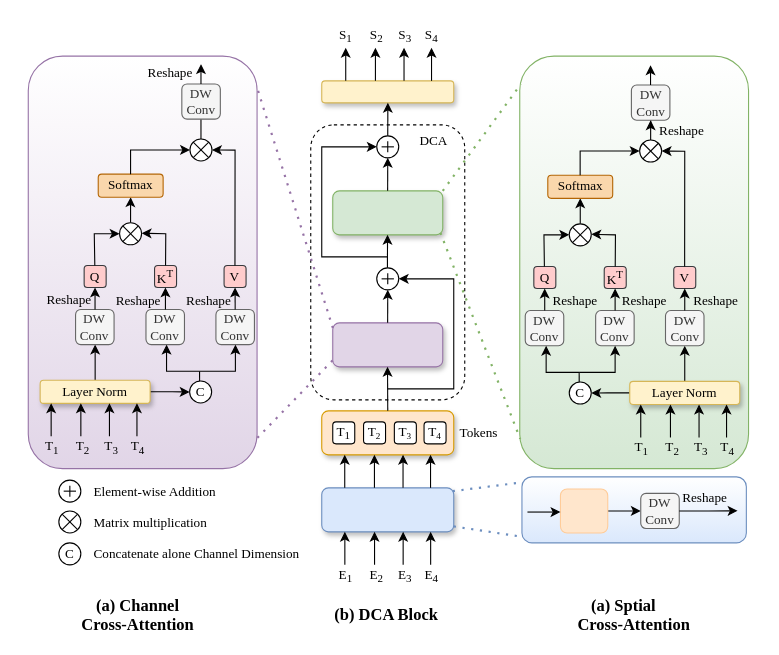
The diagram is 779 pixels wide and 655 high, and some of its shapes have lost their labels. The shapes that lost their labels are listed below. From the top down, each one's centre as x and y in pixels, then its label:
At point (388, 93): "Layer Norm + GeLU".
At point (388, 214): "Sptial Cross-Attention".
At point (388, 346): "Channel Cross-Attention".
At point (388, 511): "Multi-scale Patch Embedding".
At point (583, 510): "Avg Pool".
